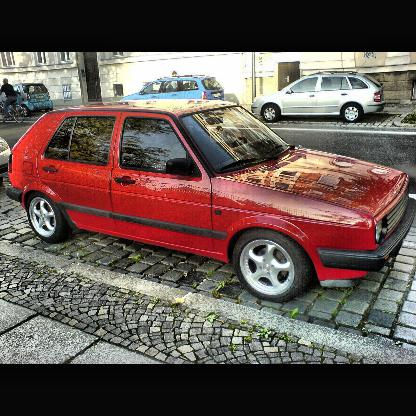Volkswagen Golf Hatchback 1991: (8, 100, 412, 302)
